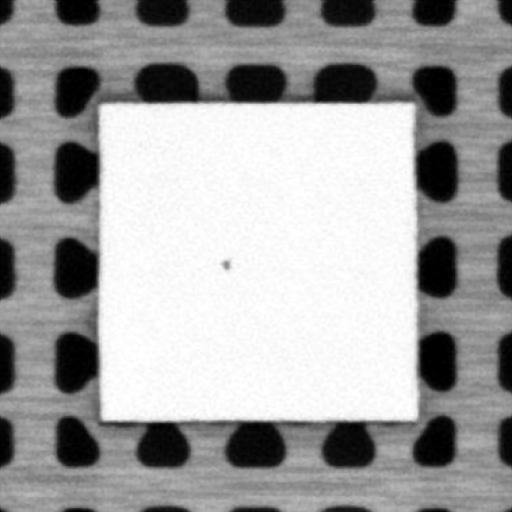DIE_INK: (220, 256, 230, 270)
